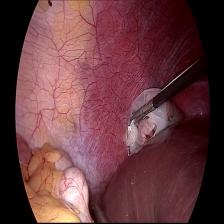Grasper: (128, 96, 157, 128)
Specimen Bag: (121, 84, 186, 162)
